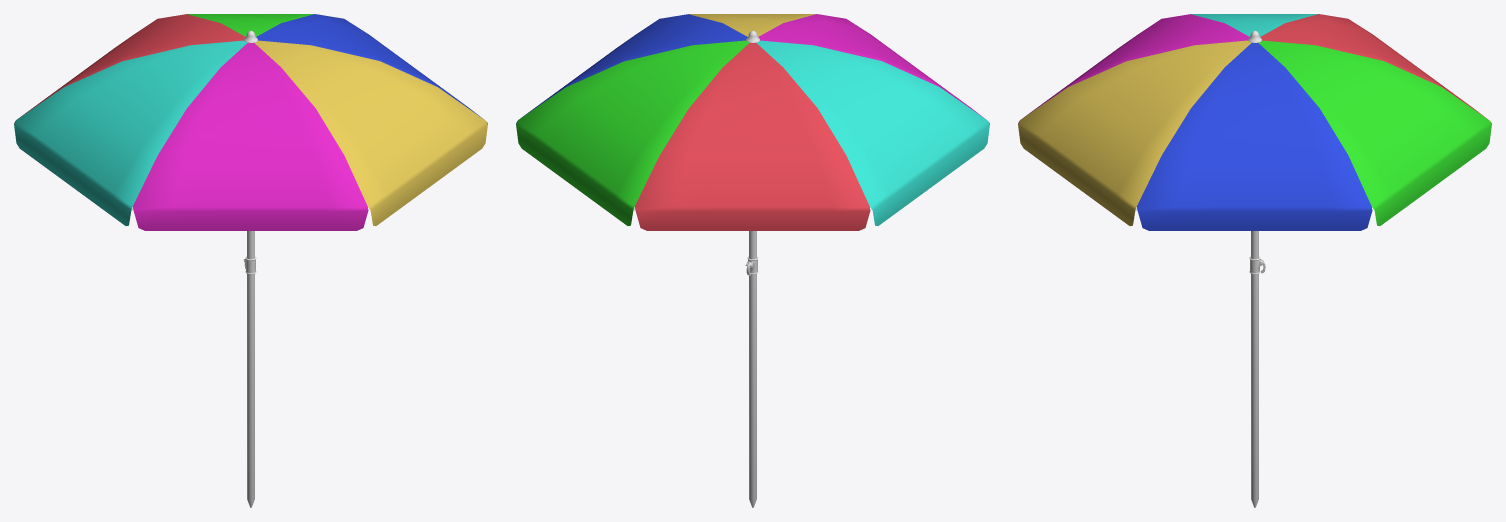
Rendered from beach_umbrella.gltf.
The picture shows the model from 3 angles, left to right: view 1: azimuth 30°, elevation 25°; view 2: azimuth 150°, elevation 25°; view 3: azimuth 270°, elevation 25°; orthographic projection.
Parts seen in each view (by area): view 1: Sphere.002, Cylinder, Cylinder.001; view 2: Sphere.002, Cylinder, Cylinder.001; view 3: Sphere.002, Cylinder, Cylinder.001.
Part boxes in pixels (box(x1,y1,x2,y2)): Sphere.002: box(14, 14, 487, 230); Cylinder: box(247, 274, 254, 507); Cylinder.001: box(244, 30, 257, 274); Sphere.002: box(516, 14, 989, 230); Cylinder: box(749, 274, 756, 507); Cylinder.001: box(745, 30, 759, 275); Sphere.002: box(1018, 14, 1491, 230); Cylinder: box(1251, 274, 1258, 507); Cylinder.001: box(1248, 30, 1265, 274).
Size of the model in its own units: 254 by 325 by 292.
8 materials, 8 textured.
